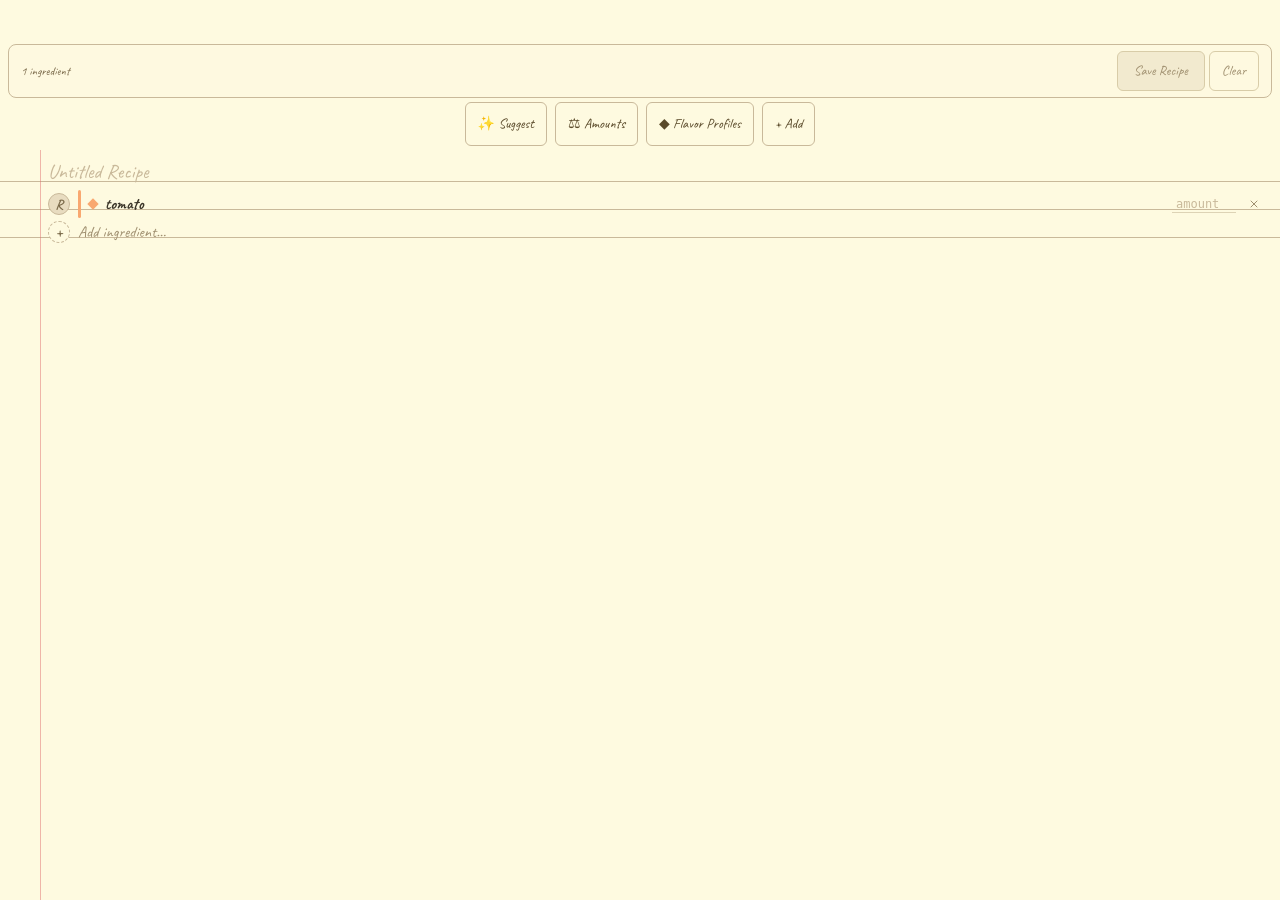
RecipeLabMobile — RL-PORTIONS-UI bowl shape + amount input › "to taste" surfaces a chip with the display form (no underscore)
The image size is (1280, 900).
Type "to taste" into the field with test id "amount-input-tomato" at (1204, 204), box [1172,196,1236,212]
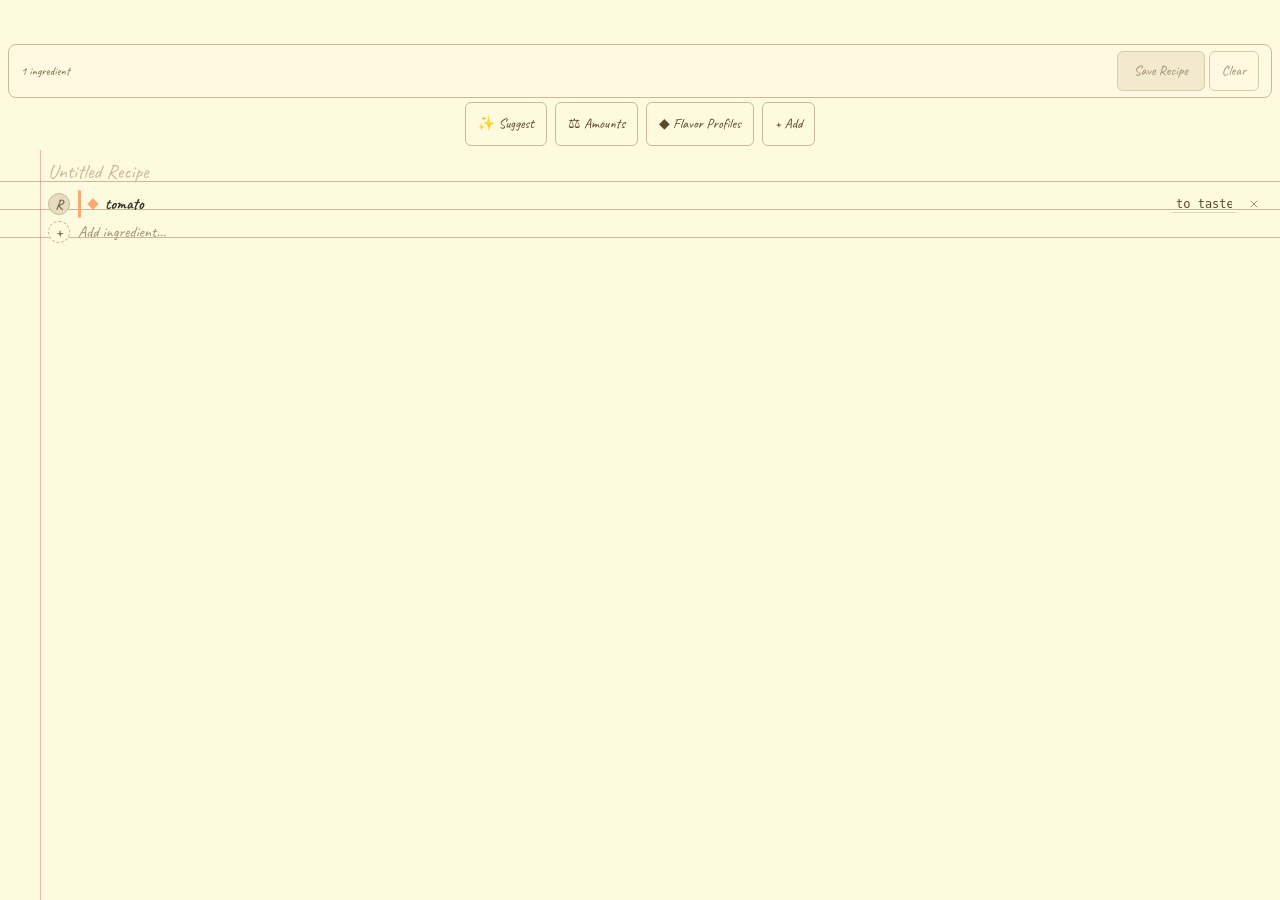
Leave the field with test id "amount-input-tomato", box [1172,196,1236,212]
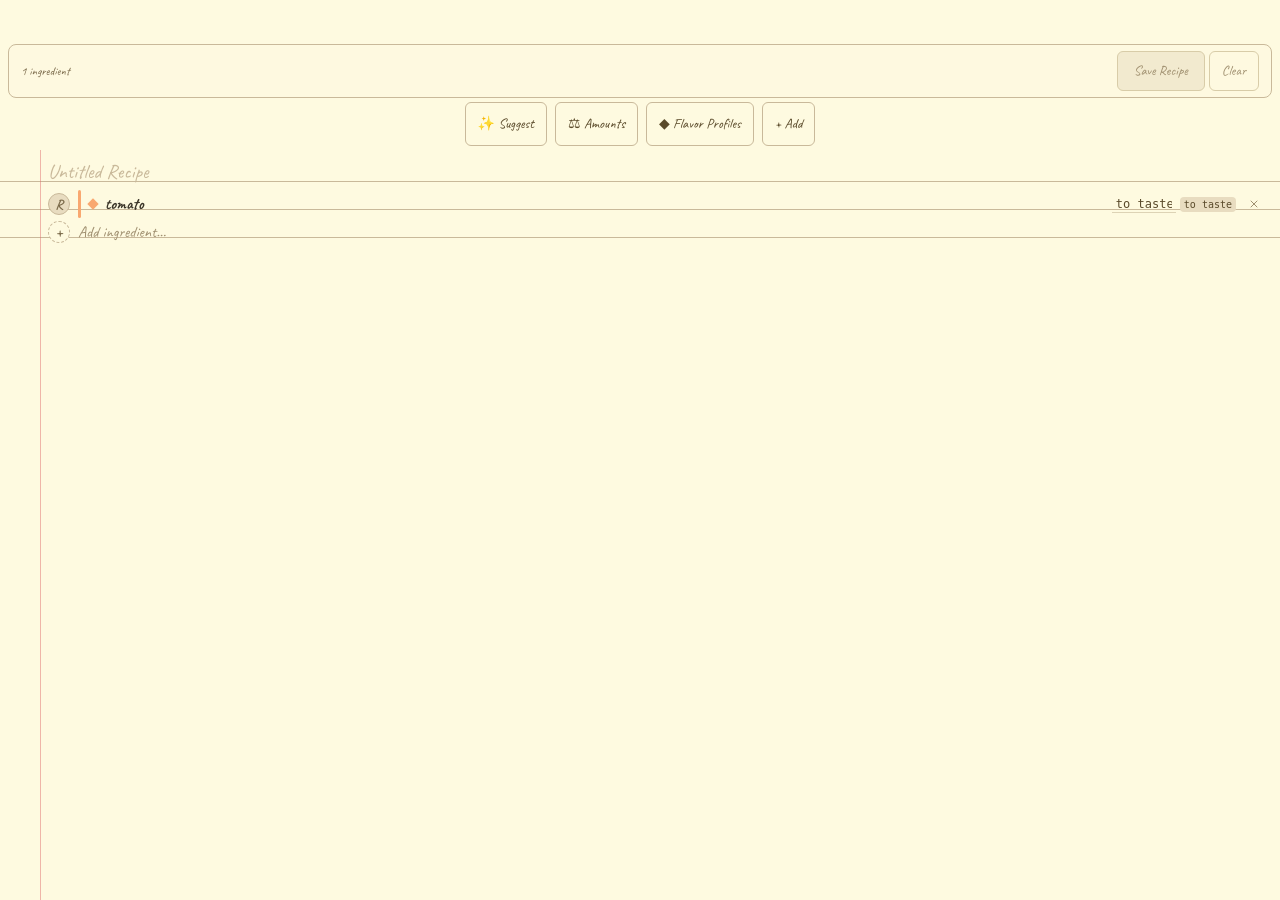
expect the text with test id "amount-chip-tomato" reads "to taste": met, box [1184,198,1232,210]
